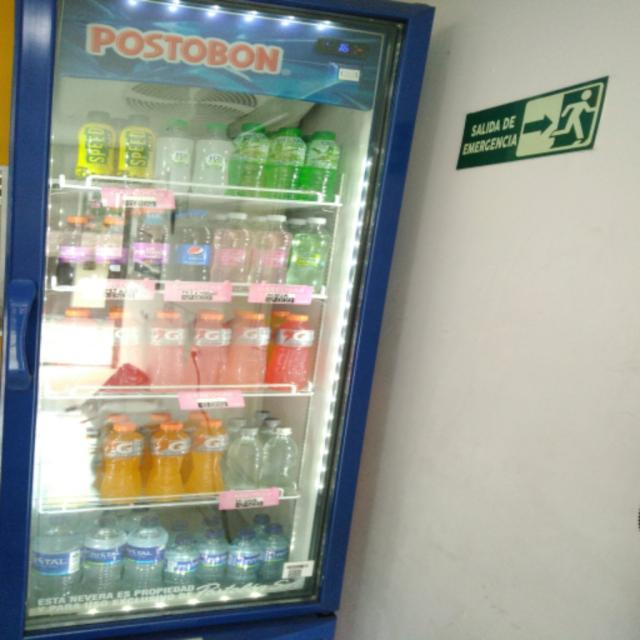Gatorade: (102, 424, 144, 503), (147, 424, 191, 499), (196, 310, 235, 393), (149, 311, 188, 393), (279, 314, 316, 389), (236, 314, 271, 392), (194, 419, 229, 494)
speed: (76, 112, 119, 182), (116, 116, 159, 186)
